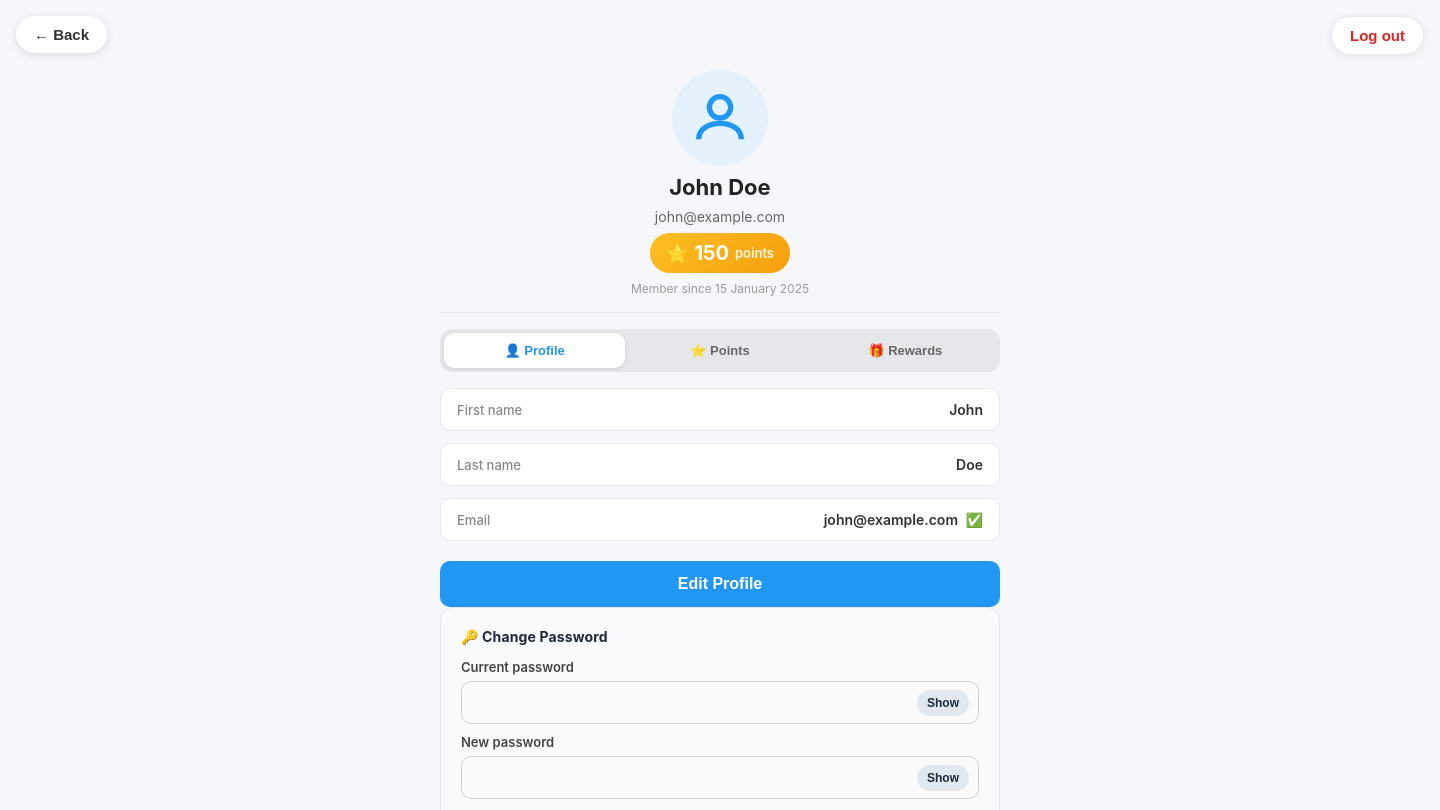
Test: Profile Component › can switch to points tab
The image size is (1440, 810).
Step 1. Click the tab "⭐ Points" → (720, 350), box [629,333,811,368]
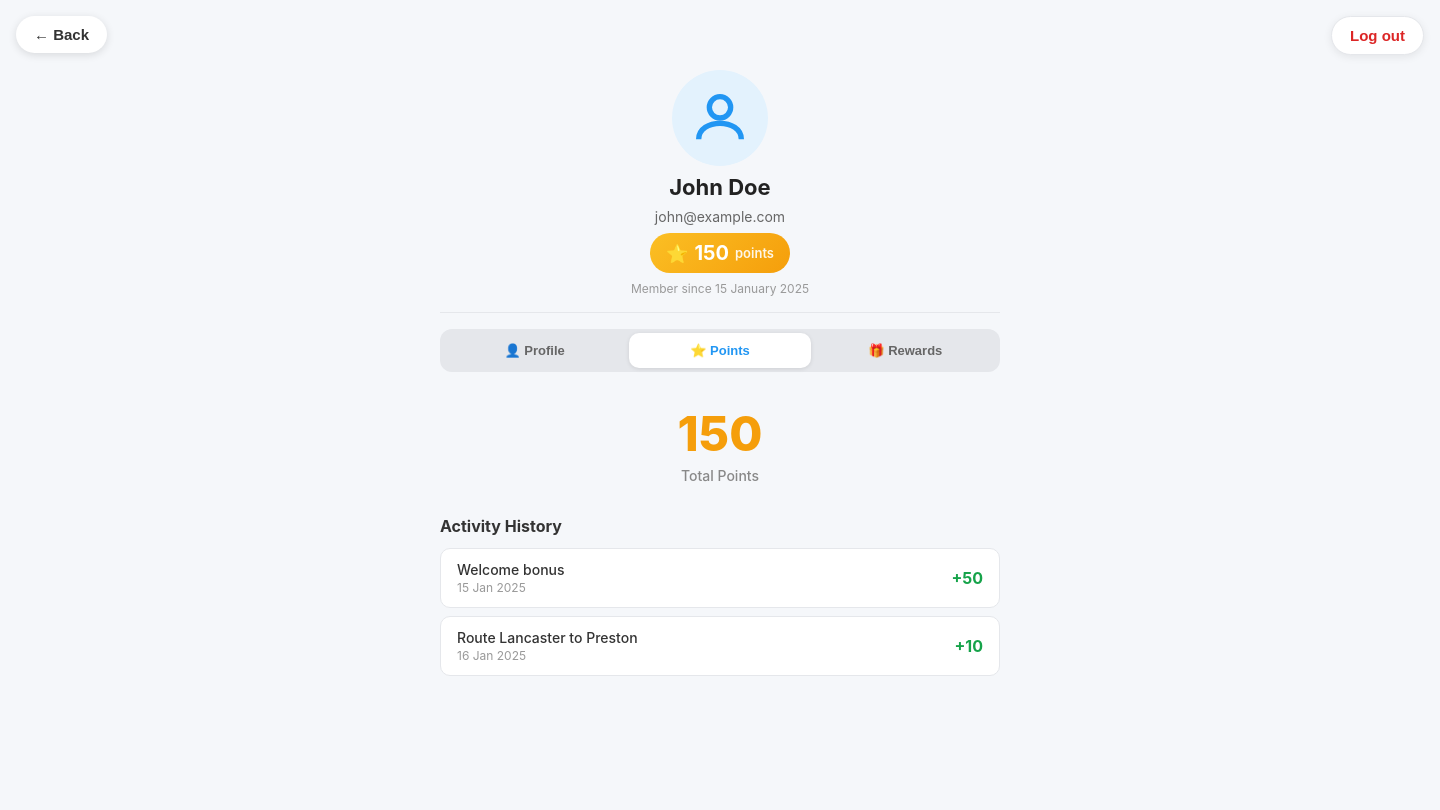
Now the heading "Activity History" is shown, box [440,516,562,536]
Now the text "Welcome bonus" is shown, box [457,561,564,578]
